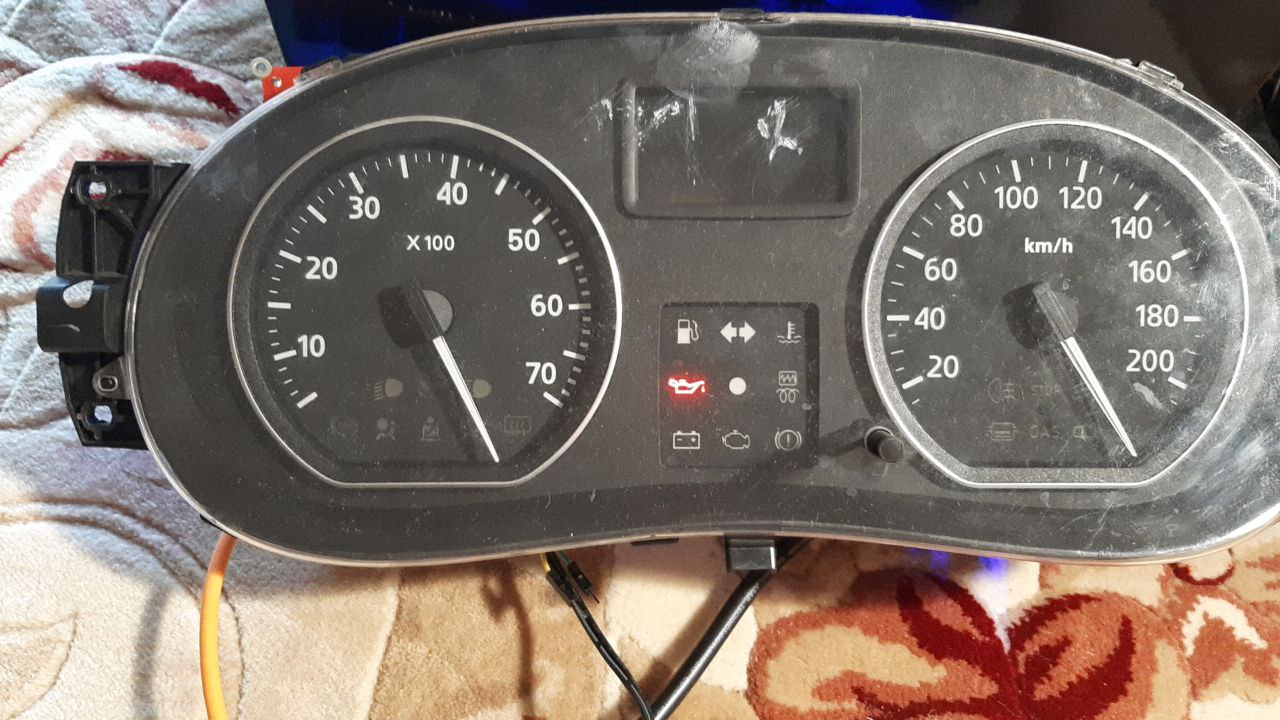oil: (659, 370, 714, 398)
